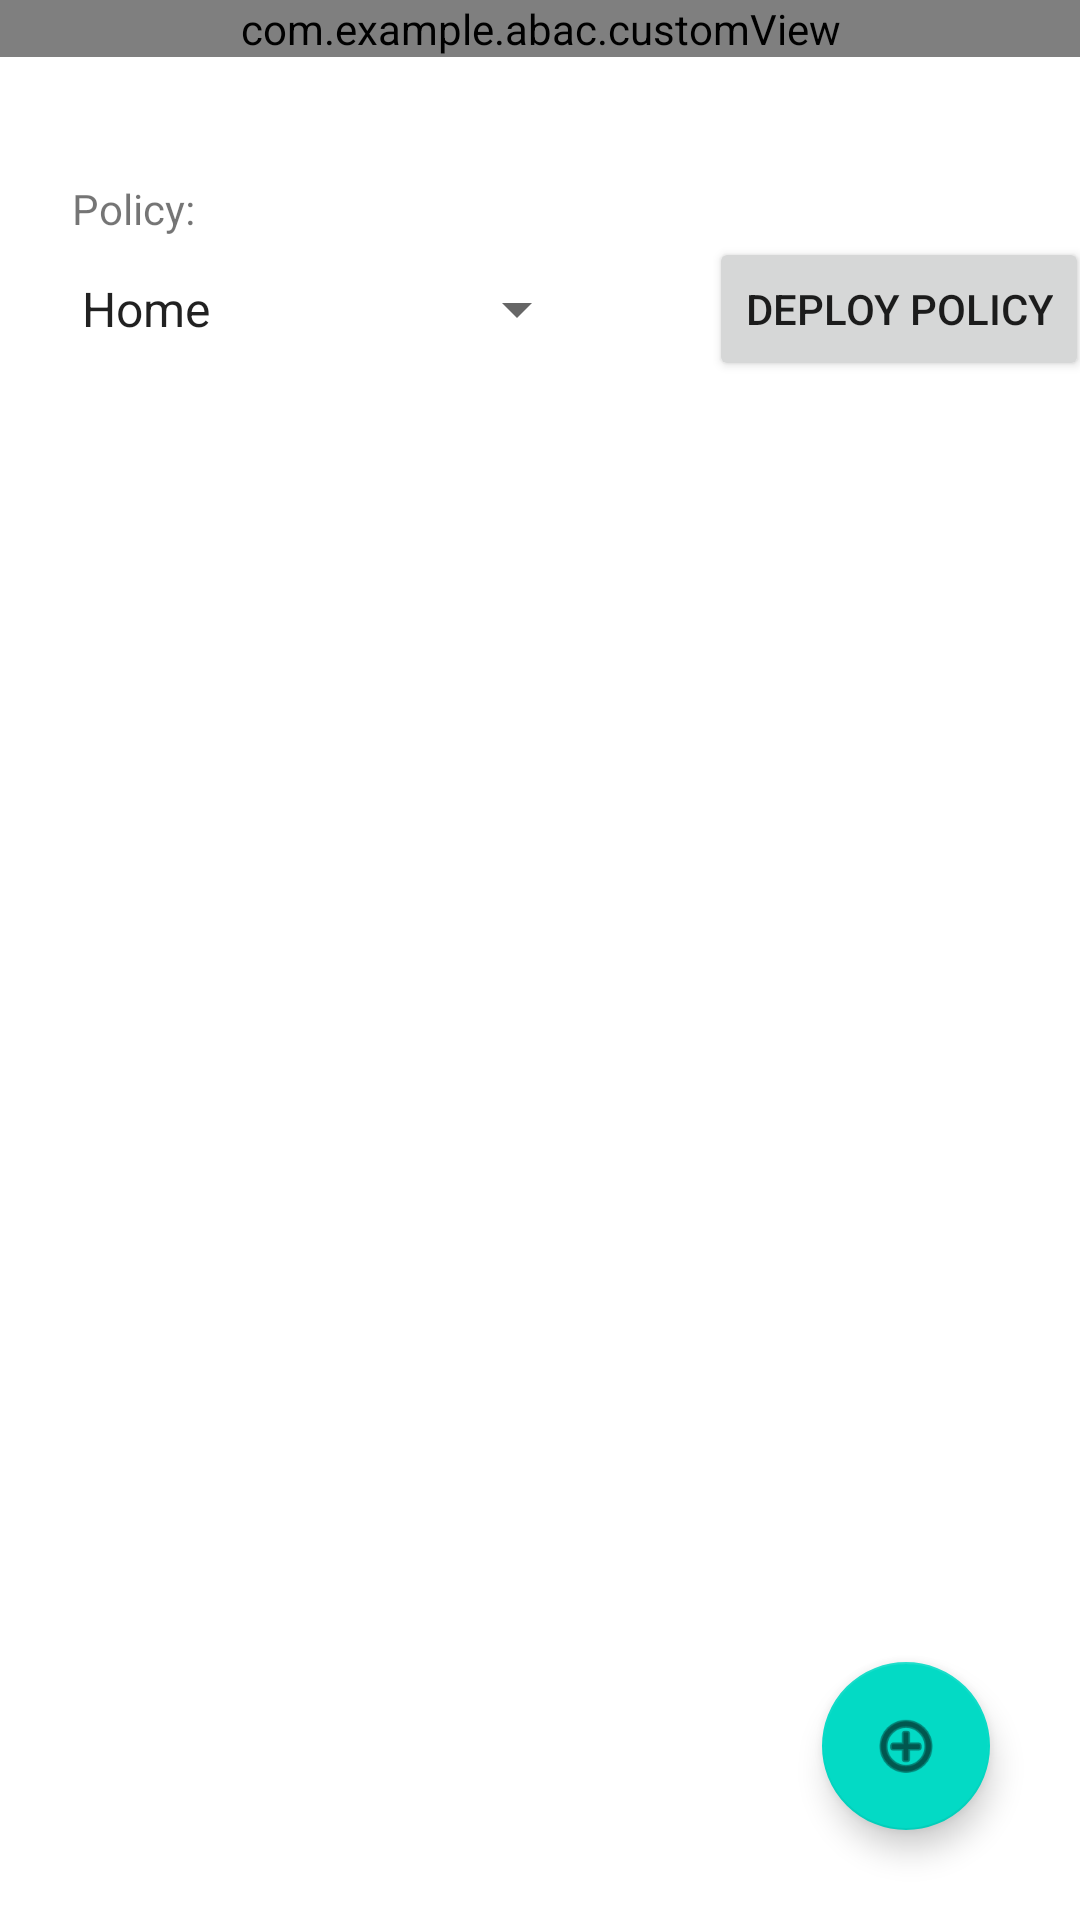

Icon click points for this 1080 × 1920 phone screenshot, format (x=x, y=y):
Add Policy: (x=906, y=1746)
